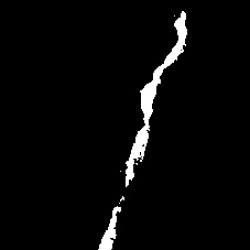crack: (99, 9, 190, 246)
